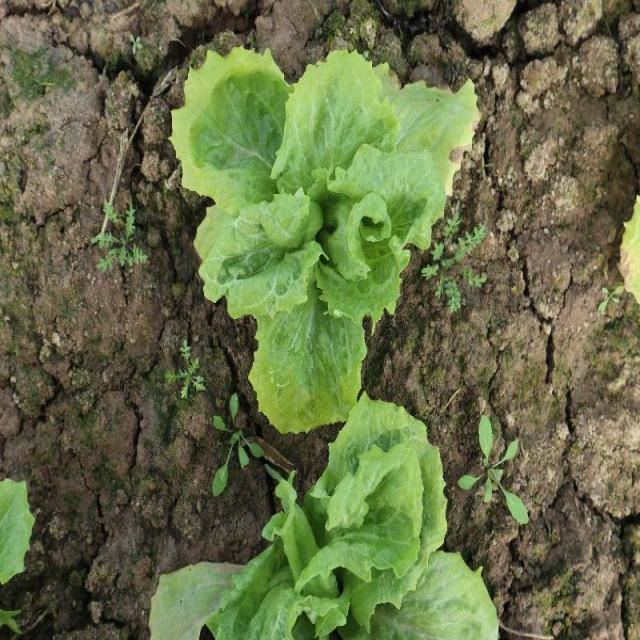crop: (172, 41, 481, 438), (195, 395, 501, 638)
